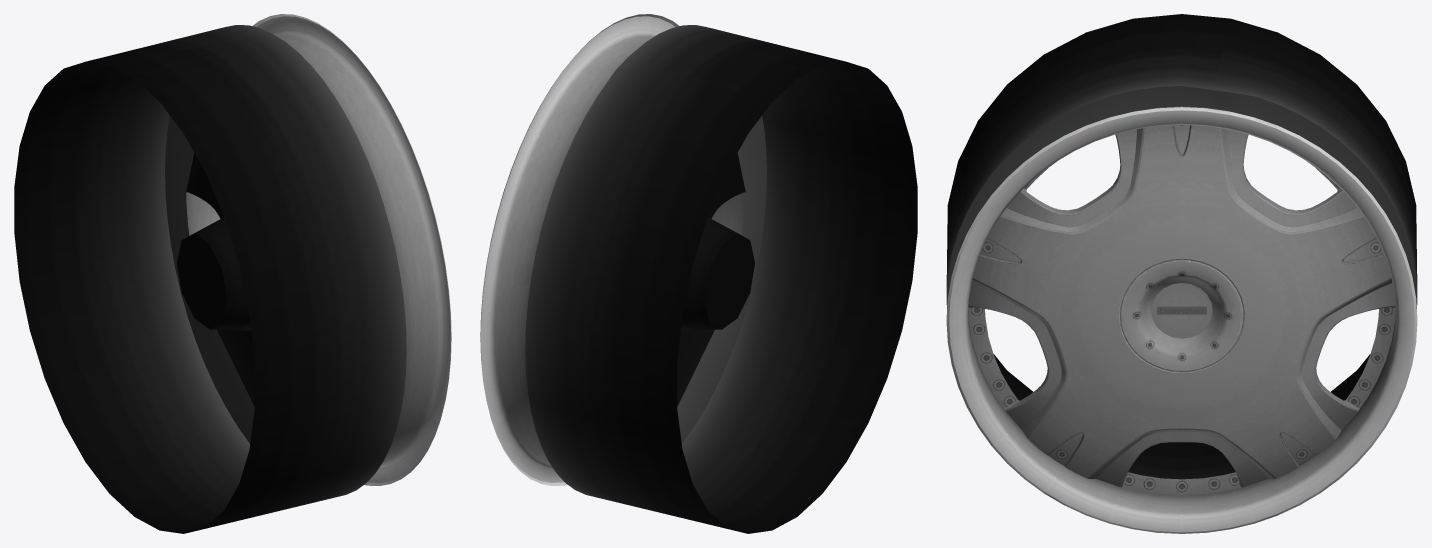
Rendered from wheel73.fbx.
3 renders of one model, left to right at view 1: azimuth 30°, elevation 25°; view 2: azimuth 150°, elevation 25°; view 3: azimuth 270°, elevation 25°, orthographic. The views are drawn at different scales.
Parts seen in each view (by area): view 1: low_ldr_wheel_wheel_inner_rim_, low_ldr_wheel_wheel_blur_lip_, low_ldr_wheel_wheel_rim_; view 2: low_ldr_wheel_wheel_inner_rim_, low_ldr_wheel_wheel_blur_lip_, low_ldr_wheel_wheel_rim_; view 3: low_ldr_wheel_wheel_rim_, low_ldr_wheel_wheel_inner_rim_, low_ldr_wheel_wheel_blur_lip_.
Part boxes in pixels (x1,y1,x2,y2): low_ldr_wheel_wheel_inner_rim_: (14,25,406,533); low_ldr_wheel_wheel_blur_lip_: (186,14,451,486); low_ldr_wheel_wheel_rim_: (186,14,451,485); low_ldr_wheel_wheel_inner_rim_: (525,25,917,533); low_ldr_wheel_wheel_blur_lip_: (480,14,745,485); low_ldr_wheel_wheel_rim_: (480,16,744,485); low_ldr_wheel_wheel_rim_: (952,107,1415,531); low_ldr_wheel_wheel_inner_rim_: (946,14,1417,479); low_ldr_wheel_wheel_blur_lip_: (946,106,1417,533).
Bounding box in the file's own units: 0.2266 × 0.48 × 0.48.
Materials: 1 (1 with a texture image).
